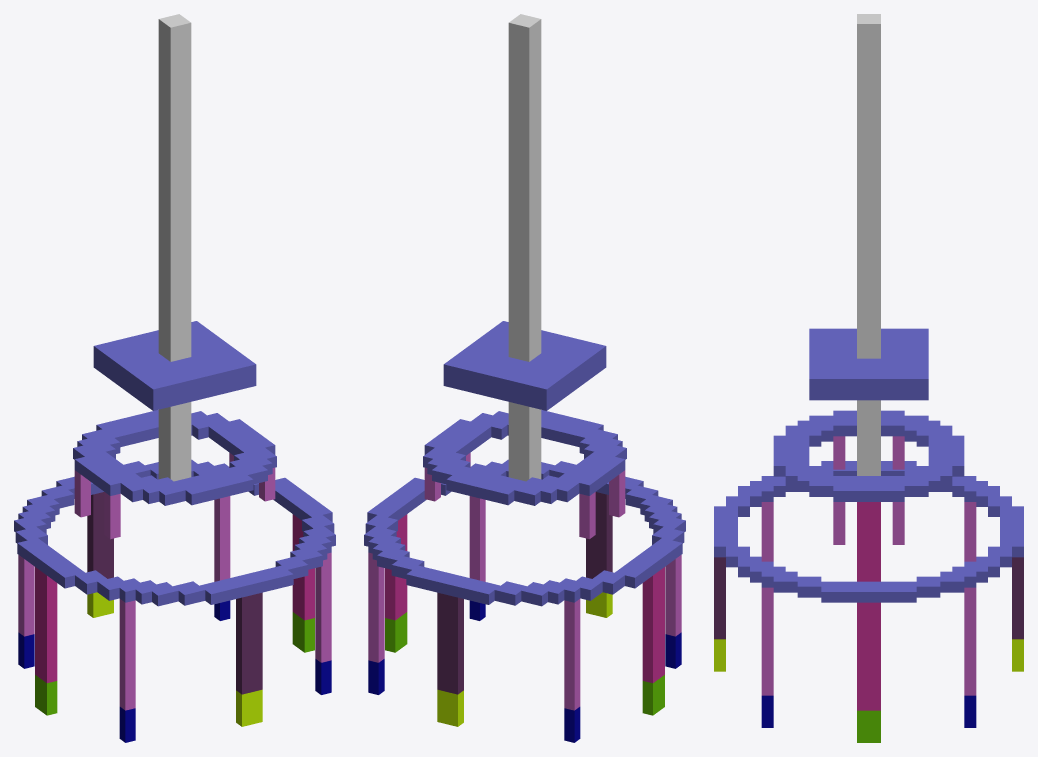
Rendered from mobil.obj.
3 renders of one model, left to right at view 1: azimuth 30°, elevation 25°; view 2: azimuth 150°, elevation 25°; view 3: azimuth 270°, elevation 25°, orthographic.
Parts seen in each view (by area): view 1: mobil; view 2: mobil; view 3: mobil.
Boxes of the visible parts, x1,y1,x2,y2 form: mobil: (14, 14, 335, 742); mobil: (364, 14, 685, 742); mobil: (714, 14, 1023, 742).
Size of the model in its own units: 26 by 61 by 26.
Materials: 1 (1 with a texture image).
